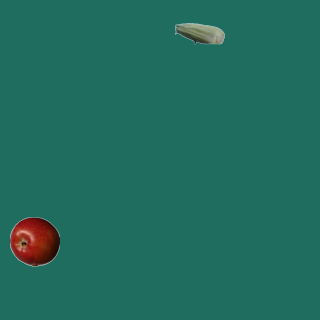Apple Braeburn: (9, 216, 59, 266)
Corn Husk: (174, 8, 224, 58)
